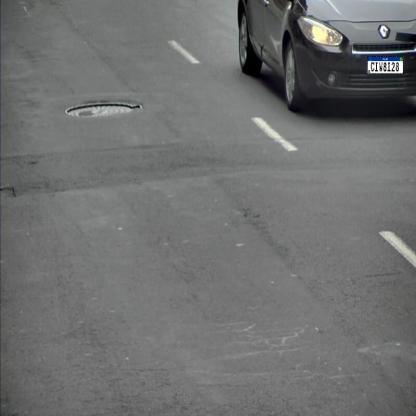PlacaM: (367, 56, 404, 74)
